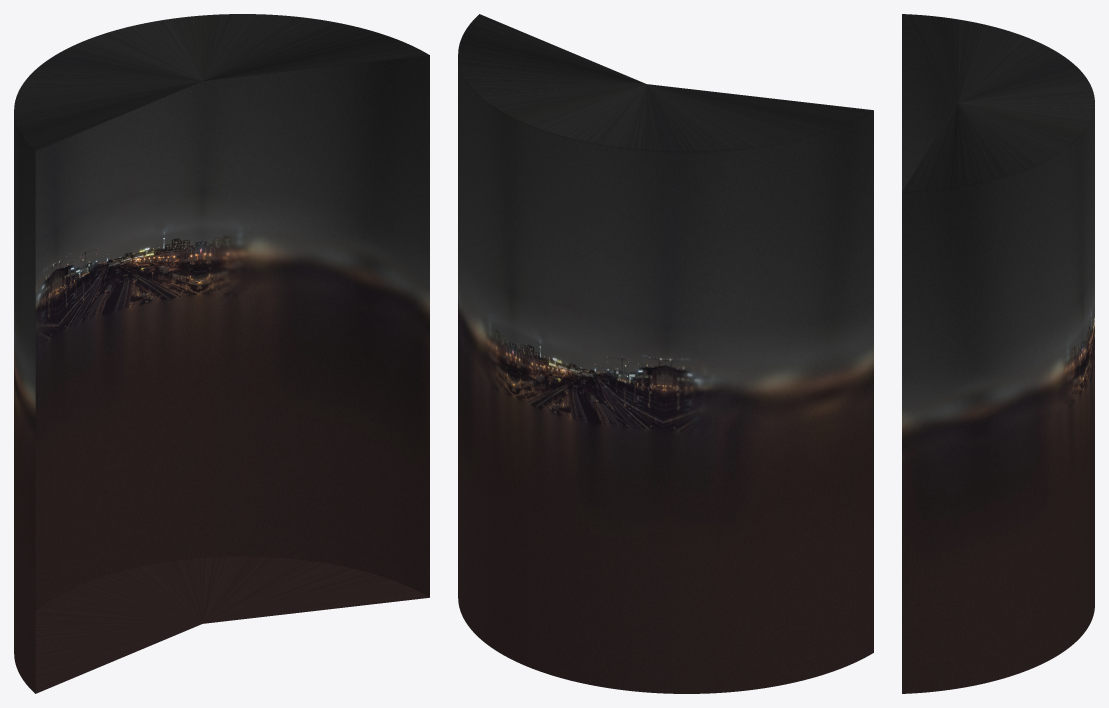
The model's file is sakina-view-r4lo.glb.
3 views of the same model, side by side, from view 1: azimuth 30°, elevation 25°; view 2: azimuth 150°, elevation 25°; view 3: azimuth 270°, elevation 25° (orthographic). The views are drawn at different scales.
Visible parts, largest first — view 1: WindowView_Pano, WindowView_Photo; view 2: WindowView_Pano; view 3: WindowView_Pano.
Boxes of the visible parts, x1,y1,x2,y2 form: WindowView_Pano: (14,14,429,693); WindowView_Photo: (56,189,203,331); WindowView_Pano: (458,14,873,693); WindowView_Pano: (902,14,1094,693).
Bounding box in the file's own units: 159 × 210 × 73.03.
2 materials, 2 textured.
